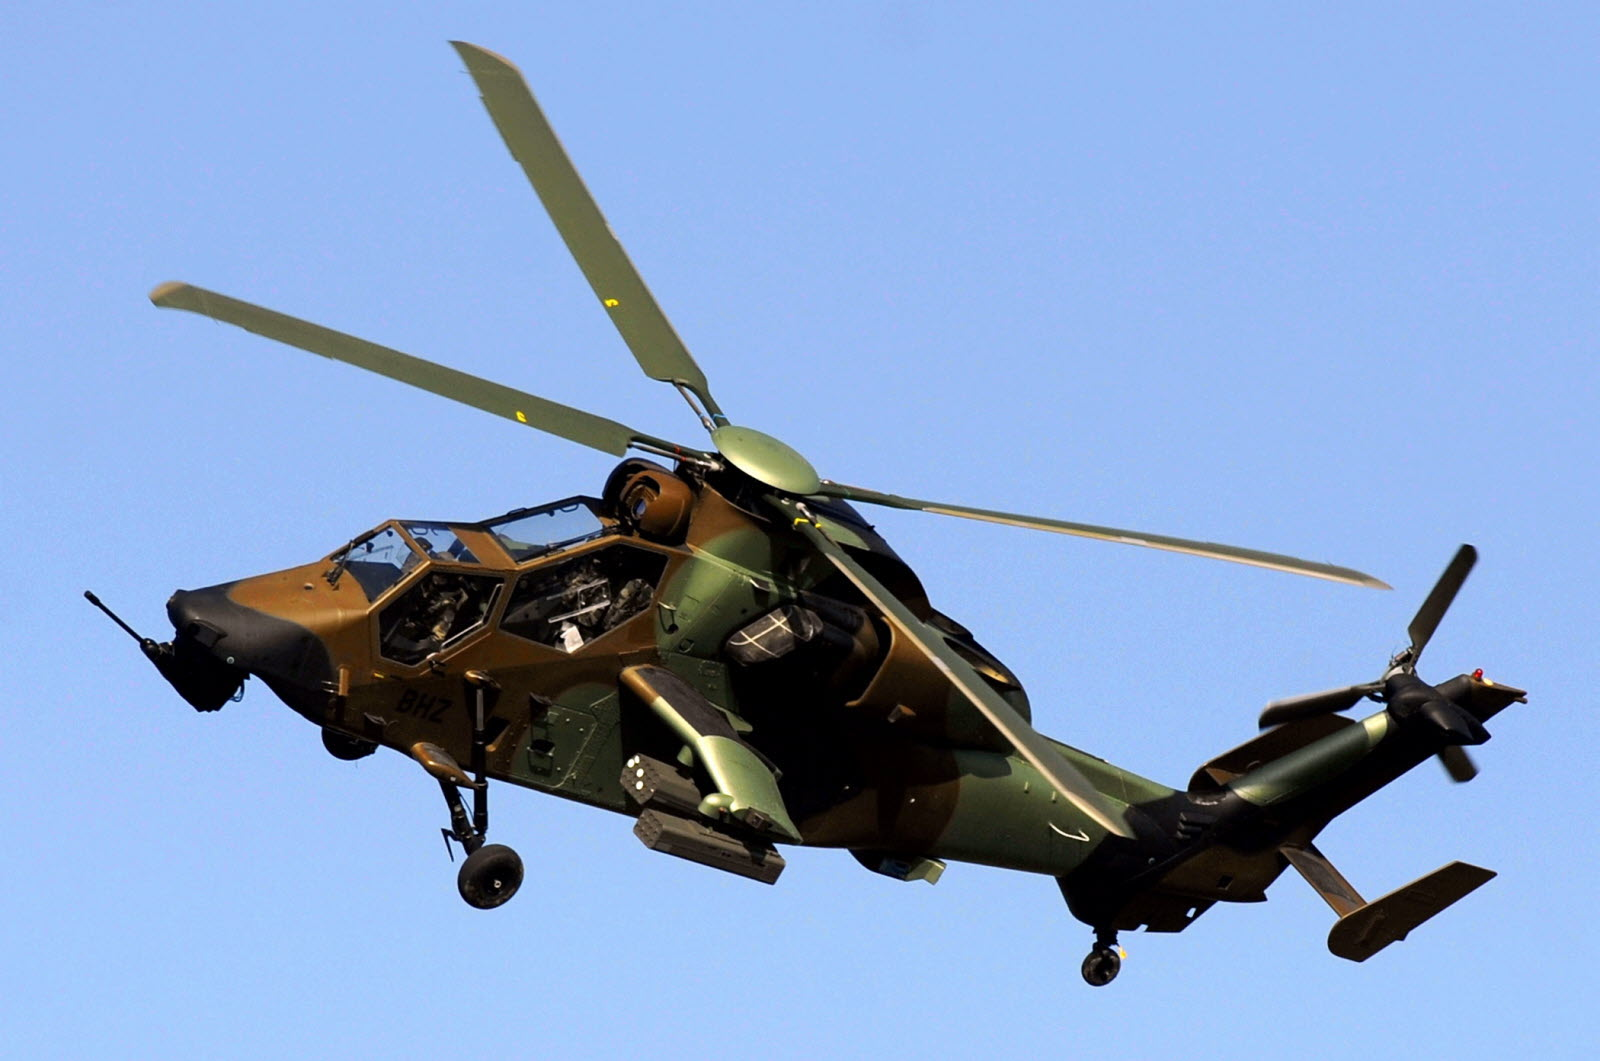Aeronef_militaire: (72, 30, 1522, 1001)
